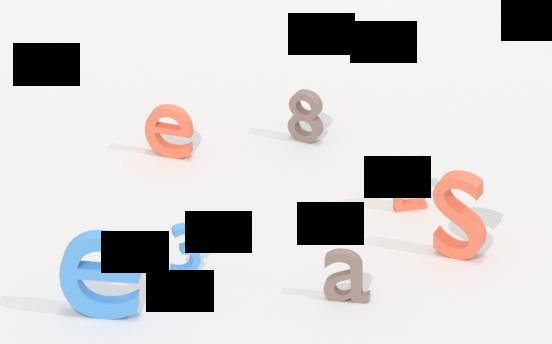3: (168, 220, 207, 279)
8: (284, 88, 330, 148)
E-hoa: (388, 155, 430, 215)
a: (319, 246, 373, 307)
e: (57, 230, 147, 323), (145, 102, 193, 162)
s: (429, 172, 492, 263)
